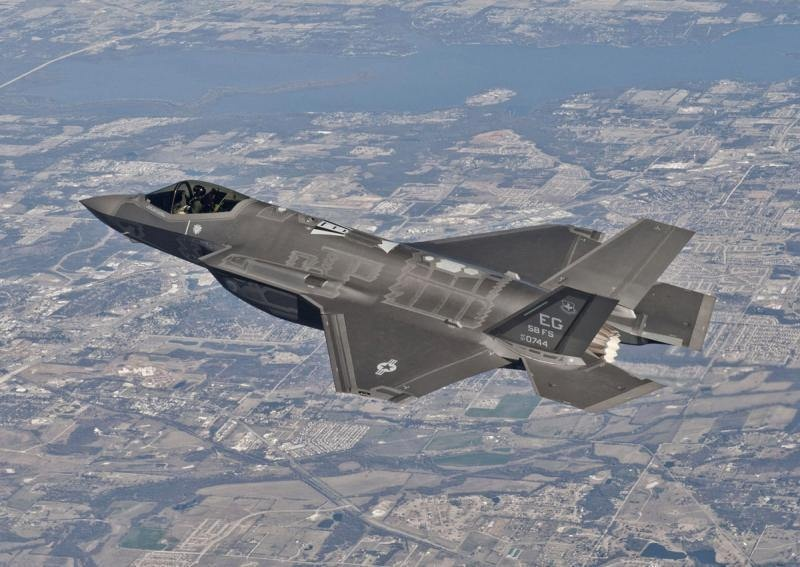airplane: (75, 165, 723, 413)
